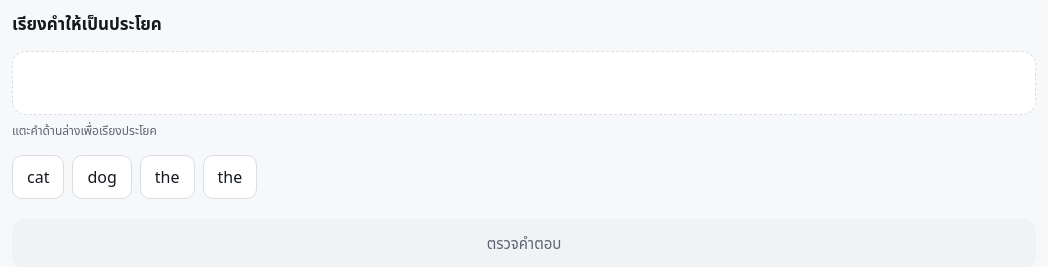
Test: ArrangeWords › handles repeated words as separate tiles
The image size is (1048, 267).
Click the button "cat" at (38, 177), box [12,155,64,199]
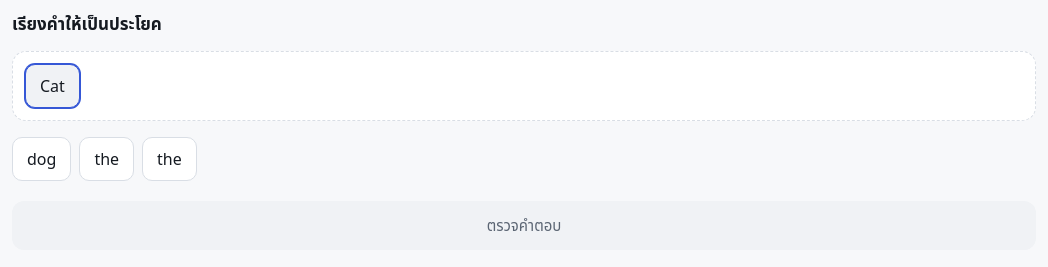
Click the button "dog" at (42, 159), box [12,137,71,181]
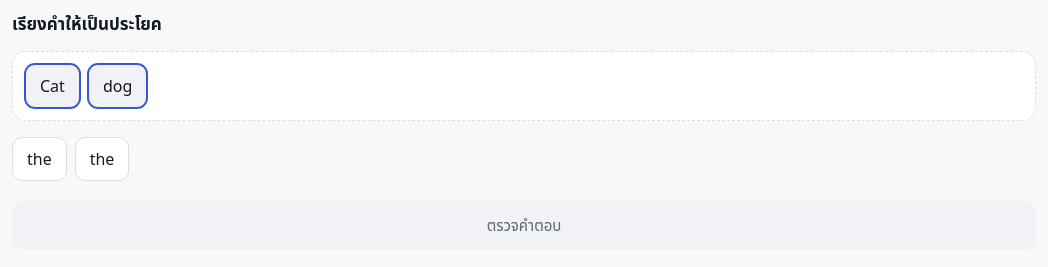
Click the 1st button "the" at (39, 159), box [12,137,67,181]
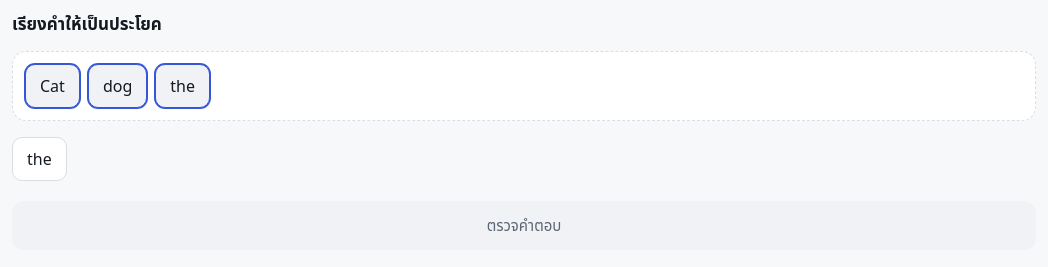
Click the 2nd button "the" at (39, 159), box [12,137,67,181]
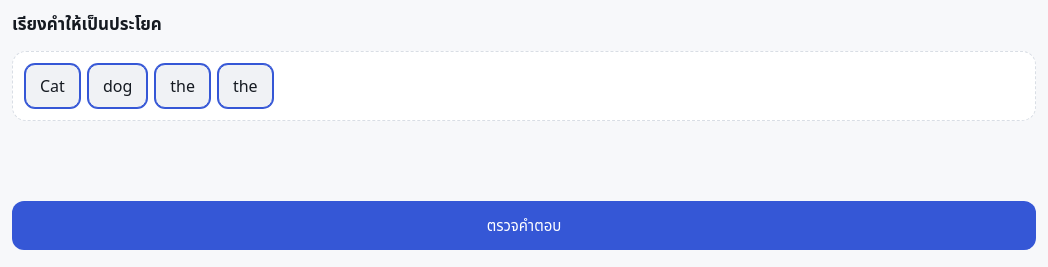
Expected: the button "ตรวจคำตอบ" is enabled, [12,201,1036,250]
